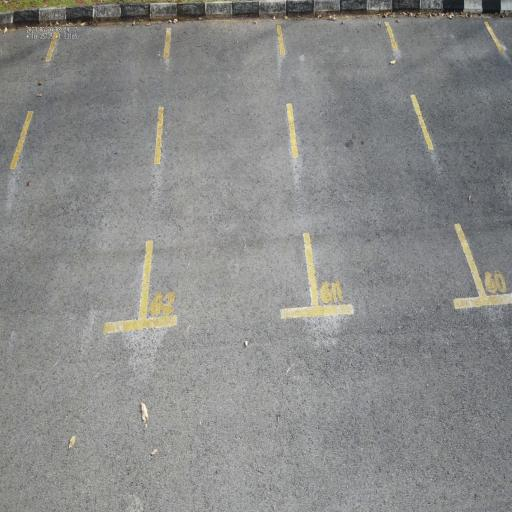Empty: (274, 12, 490, 320), (135, 17, 321, 338)
